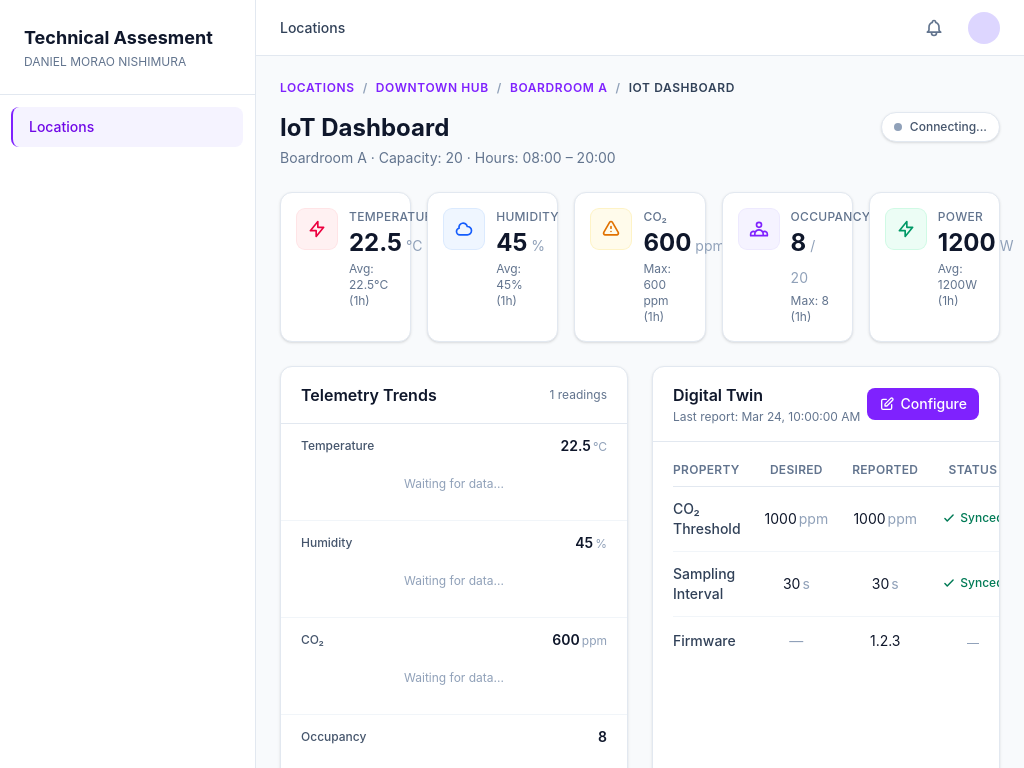
Test case: IoT Dashboard page › closes the config modal on Cancel
The image size is (1024, 768).
Click the button "Configure" at (924, 404), box [867,388,980,420]
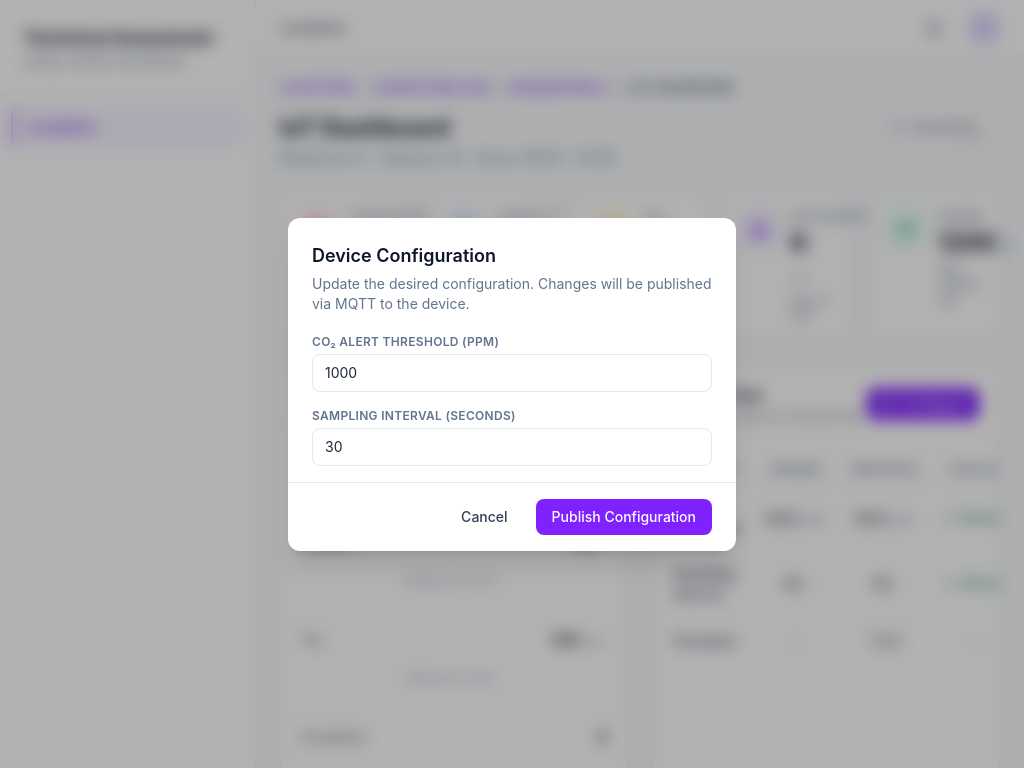
Check: the heading "Device Configuration" is shown, box [312,244,496,266]
Click the button "Cancel" at (485, 517), box [445,499,524,535]
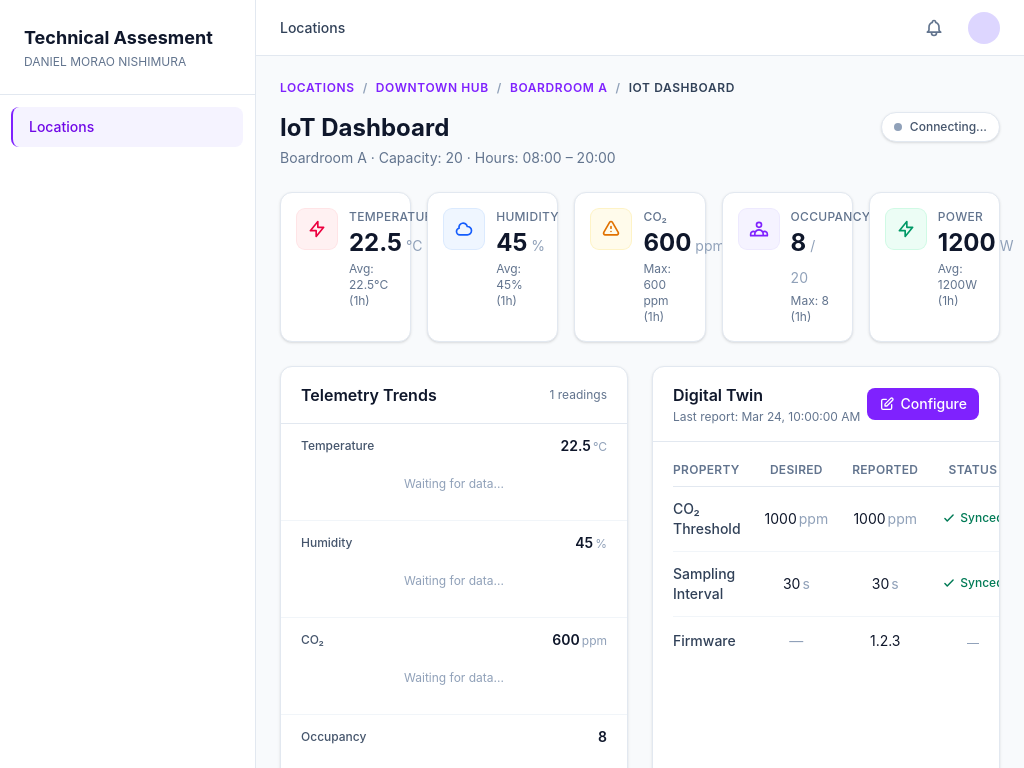
Check: the heading "Device Configuration" is gone
